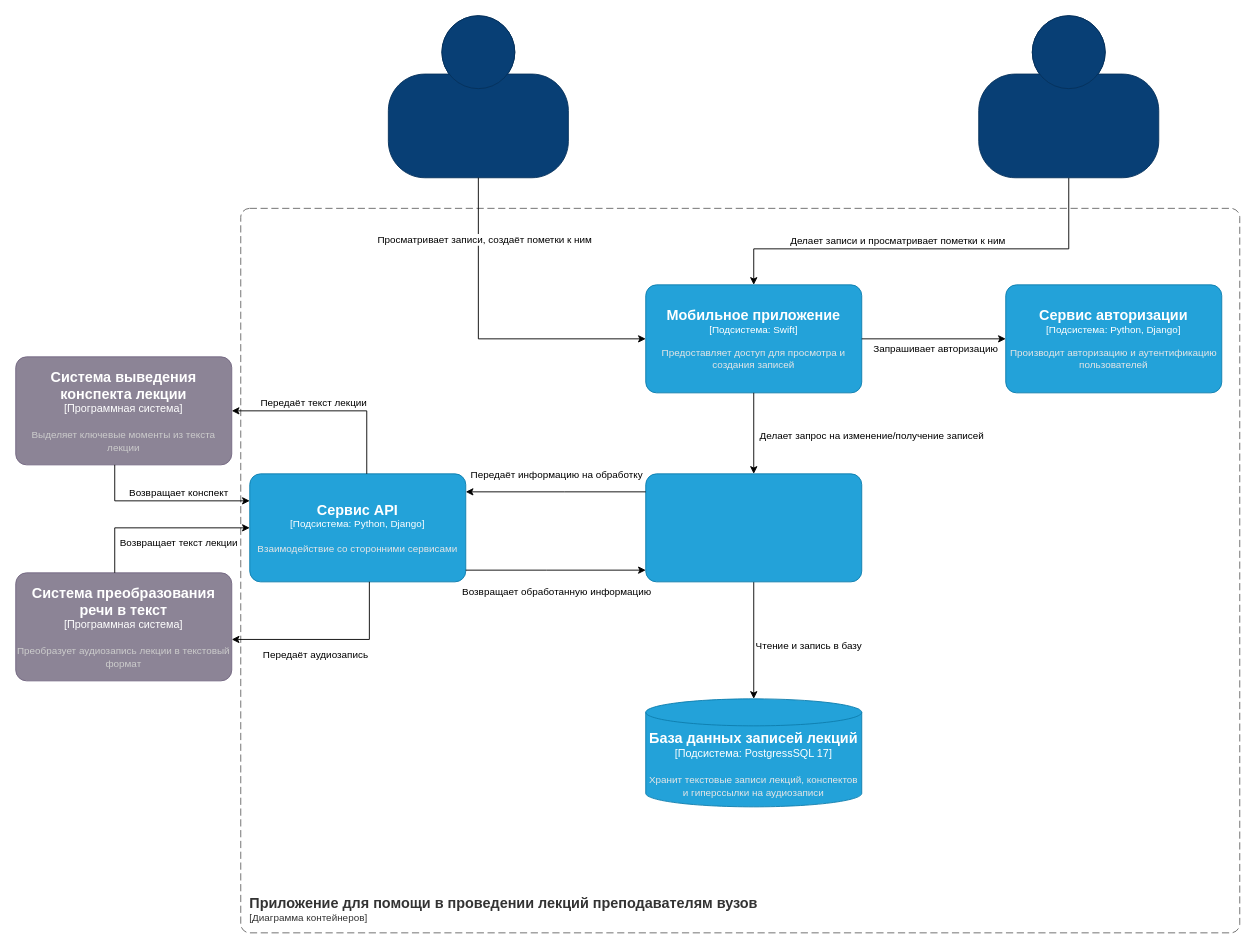
Some shapes in this 1256 by 949 pixel diagram are drawn without their labels. The centre of each missing label's shape, as x and y in pixels:
"Каталог записей [Подсистема: Python, Django] Управление и доступ к записям БД" goes at pixel 753 527.
"Преподаватель [Пользователь] Ведёт лекцию" goes at pixel 1068 96.
"Студент [Пользователь] Что слушает лекцию" goes at pixel 477 96.
